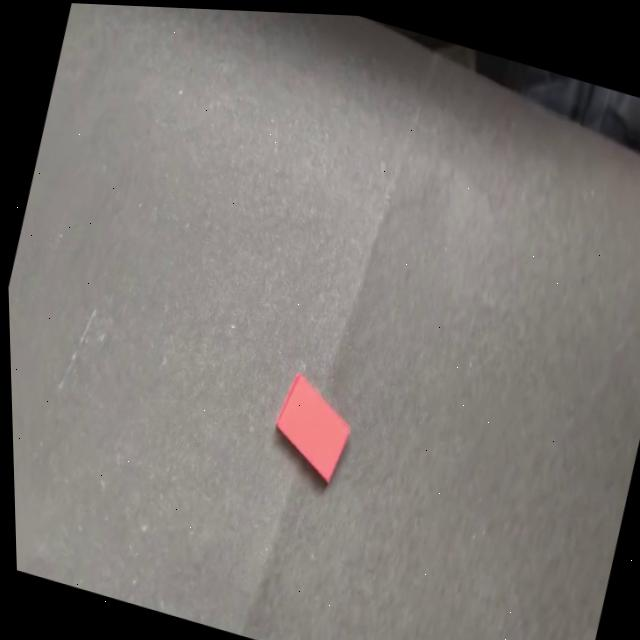red block: (262, 368, 362, 489)
